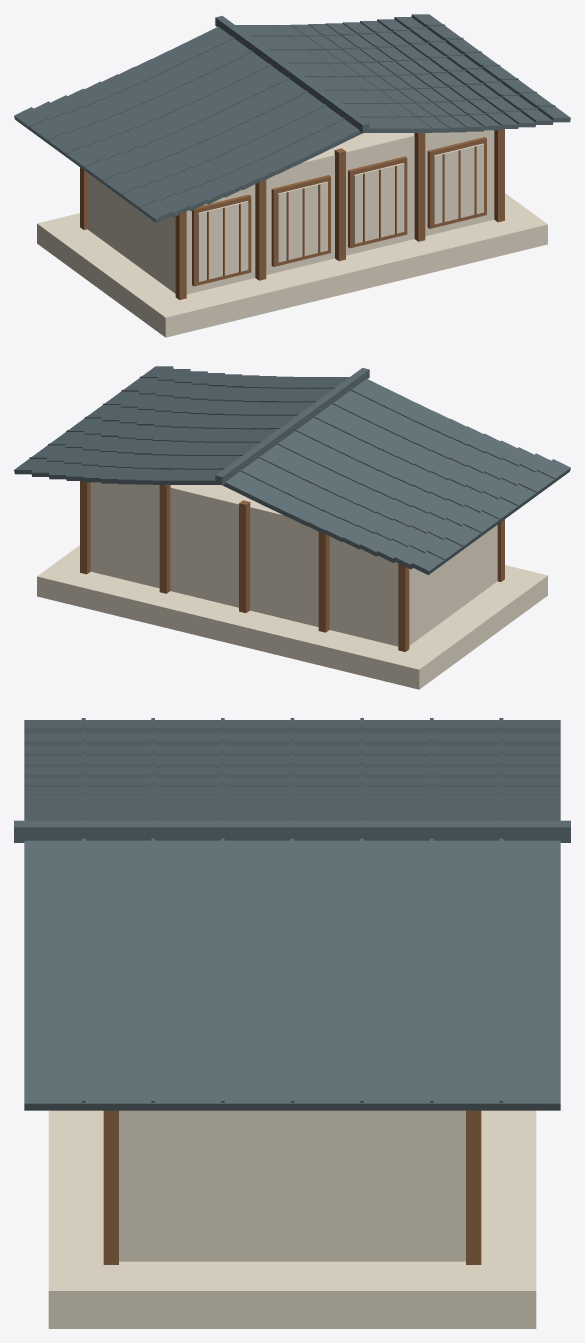
The model's file is hanok.glb.
3 views of the same model, one above another, from view 1: azimuth 30°, elevation 25°; view 2: azimuth 150°, elevation 25°; view 3: azimuth 270°, elevation 25° (orthographic). The views are drawn at different scales.
Parts seen in each view (by area): view 1: Stone foundation, Plastered walls, Curved tile course.011, Paper window.001, Paper window.003, Paper window, Paper window.002, Curved tile course.002, Curved tile course.003, Curved tile course.001, Curved tile course.004, Curved tile course.005 (+29 smaller); view 2: Plastered walls, Stone foundation, Curved tile course.011, Curved tile course.002, Curved tile course.003, Curved tile course.001, Curved tile course.004, Curved tile course.005, Curved tile course.006, Curved tile course.007, Curved tile course.008, Curved tile course.009 (+21 smaller); view 3: Plastered walls, Stone foundation, Curved tile course.023, Curved tile course.013, Curved tile course.014, Curved tile course.015, Curved tile course.016, Curved tile course.017, Roof ridge, Curved tile course.018, Curved tile course.019, Curved tile course.020 (+15 smaller).
Boxes of the visible parts, bbox=[...] form: Stone foundation: bbox=[37, 193, 547, 337]; Plastered walls: bbox=[87, 130, 494, 294]; Curved tile course.011: bbox=[14, 107, 173, 222]; Paper window.001: bbox=[277, 181, 327, 262]; Paper window.003: bbox=[433, 143, 483, 224]; Paper window: bbox=[198, 201, 248, 281]; Paper window.002: bbox=[354, 163, 404, 243]; Curved tile course.002: bbox=[170, 42, 328, 157]; Curved tile course.003: bbox=[153, 50, 311, 165]; Curved tile course.001: bbox=[187, 34, 346, 149]; Curved tile course.004: bbox=[136, 58, 294, 174]; Curved tile course.005: bbox=[119, 66, 276, 182]; Plastered walls: bbox=[90, 482, 497, 646]; Stone foundation: bbox=[37, 545, 547, 689]; Curved tile course.011: bbox=[411, 459, 570, 574]; Curved tile course.002: bbox=[256, 394, 414, 509]; Curved tile course.003: bbox=[273, 402, 431, 517]; Curved tile course.001: bbox=[238, 386, 397, 501]; Curved tile course.004: bbox=[290, 410, 448, 526]; Curved tile course.005: bbox=[307, 418, 465, 534]; Curved tile course.006: bbox=[325, 426, 482, 541]; Curved tile course.007: bbox=[342, 433, 500, 549]; Curved tile course.008: bbox=[359, 440, 516, 556]; Curved tile course.009: bbox=[377, 447, 533, 562]; Plastered walls: bbox=[119, 1110, 465, 1261]; Stone foundation: bbox=[48, 1110, 536, 1328]; Curved tile course.023: bbox=[24, 1079, 560, 1110]; Curved tile course.013: bbox=[24, 860, 560, 884]; Curved tile course.014: bbox=[24, 884, 560, 907]; Curved tile course.015: bbox=[24, 908, 560, 931]; Curved tile course.016: bbox=[24, 931, 560, 954]; Curved tile course.017: bbox=[24, 954, 560, 976]; Roof ridge: bbox=[14, 820, 570, 842]; Curved tile course.018: bbox=[24, 977, 560, 998]; Curved tile course.019: bbox=[24, 999, 560, 1019]; Curved tile course.020: bbox=[24, 1020, 560, 1040].
Size of the model in its own units: 13.04 by 5.2 by 8.
